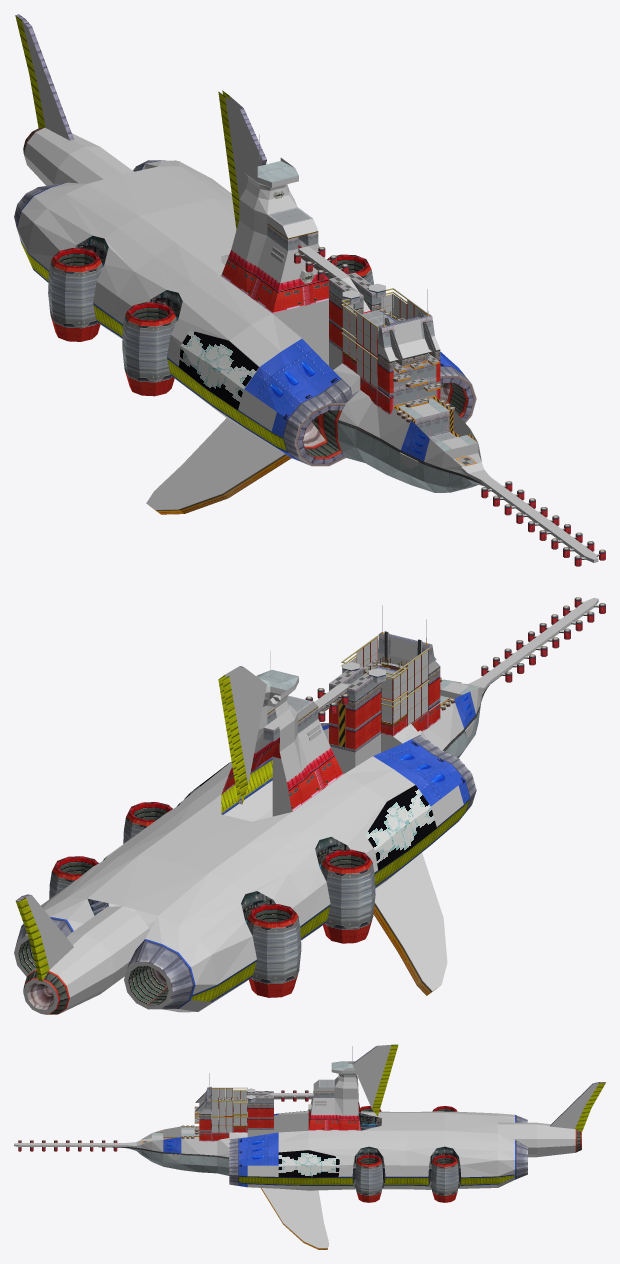
The model's file is 2PEgg_fleet10.obj.
3 views of the same model, one above another, from view 1: azimuth 30°, elevation 25°; view 2: azimuth 150°, elevation 25°; view 3: azimuth 270°, elevation 25° (orthographic). The views are drawn at different scales.
Parts seen in each view (by area): view 1: Object_2, obj3, obj2, obj7, obj11, obj1, obj10, obj5, obj8; view 2: Object_2, obj3, obj2, obj7, obj1, obj5, obj11, obj10, obj8; view 3: Object_2, obj3, obj2, obj7, obj1, obj5, obj10, obj11, obj8.
Part boxes in pixels (x1,y1,x2,y2): Object_2: [14, 160, 485, 514]; obj3: [218, 90, 328, 313]; obj2: [15, 14, 133, 185]; obj7: [272, 247, 439, 390]; obj11: [377, 358, 605, 566]; obj1: [179, 330, 258, 409]; obj10: [393, 362, 597, 559]; obj5: [343, 294, 426, 387]; obj8: [298, 246, 438, 388]; Object_2: [14, 605, 495, 1012]; obj3: [218, 651, 343, 811]; obj2: [15, 894, 149, 1014]; obj7: [272, 635, 429, 816]; obj1: [184, 762, 436, 870]; obj5: [350, 638, 427, 724]; obj11: [428, 597, 605, 711]; obj10: [440, 597, 597, 710]; obj8: [314, 660, 406, 708]; Object_2: [121, 1073, 527, 1249]; obj3: [308, 1044, 398, 1130]; obj2: [498, 1082, 605, 1157]; obj7: [195, 1087, 313, 1133]; obj1: [278, 1110, 339, 1177]; obj5: [212, 1088, 246, 1132]; obj10: [14, 1110, 199, 1145]; obj11: [14, 1108, 210, 1151]; obj8: [194, 1091, 313, 1132].
Bounding box in the file's own units: 2829 × 3159 × 9905.
